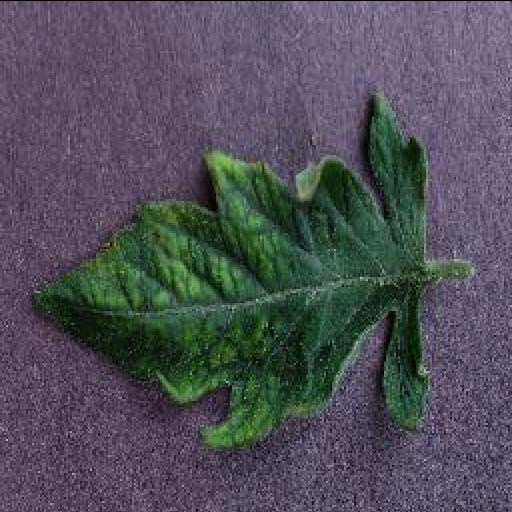disease_tomato: (30, 90, 438, 448)
